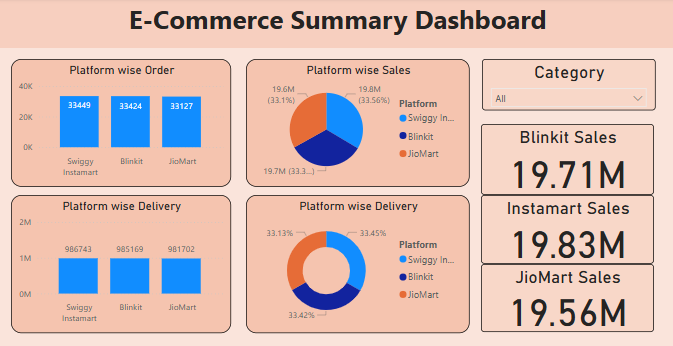

The dashboard page shown, as its layout file describes it:
{"tool":"powerbi","page":{"name":"Page 1","canvas":[1280,720],"ordinal":0},"visuals":[{"type":"columnChart","title":"Platform wise Order","fields":{"Category":["Ecommerce_Delivery_Analytics_New (1).Platform"],"Y":["CountNonNull(Ecommerce_Delivery_Analytics_New (1).Order ID)"]},"box":[16,88.3,317,184],"z":0},{"type":"pieChart","title":"Platform wise Sales","fields":{"Category":["Ecommerce_Delivery_Analytics_New (1).Platform"],"Y":["Sum(Ecommerce_Delivery_Analytics_New (1).Order Value (INR))"]},"box":[354.3,88.3,322.3,184],"z":1000},{"type":"columnChart","title":"Platform wise Delivery","fields":{"Category":["Ecommerce_Delivery_Analytics_New (1).Platform"],"Y":["Sum(Ecommerce_Delivery_Analytics_New (1).Delivery Time (Minutes))"]},"box":[16,284,317,198.9],"z":2000},{"type":"donutChart","title":"Platform wise Delivery","fields":{"Category":["Ecommerce_Delivery_Analytics_New (1).Platform"],"Y":["CountNonNull(Ecommerce_Delivery_Analytics_New (1).Customer ID)"]},"box":[354.3,284,322.3,198.9],"z":3001},{"type":"textbox","box":[0,0,972.3,72.3],"z":3002},{"type":"card","title":"Blinkit Sales","fields":{"Values":["Ecommerce_Delivery_Analytics_New (1).Blinkit"]},"box":[693.6,170.2,250,102.1],"z":3003},{"type":"slicer","title":"Category","fields":{"Values":["Ecommerce_Delivery_Analytics_New (1).Product Category"]},"box":[693.6,88.3,250,74.5],"z":3004},{"type":"card","title":"Instamart Sales","fields":{"Values":["Ecommerce_Delivery_Analytics_New (1).Instamart"]},"box":[693.6,284,250,102.1],"z":3005},{"type":"card","title":"JioMart Sales","fields":{"Values":["Ecommerce_Delivery_Analytics_New (1).JioMart"]},"box":[693.6,395.7,250,102.1],"z":3006}]}

Visuals, with their boxes on the page's 1280x720 design canvas (x1, y1, x2, y2). These are canvas units, not pixel positions in the 673x346 screenshot, which may show the page scaled, cropped or inside an application window:
"Platform wise Order" columnChart: select_region(16, 88, 333, 272)
"Platform wise Sales" pieChart: select_region(354, 88, 677, 272)
"Platform wise Delivery" columnChart: select_region(16, 284, 333, 483)
"Platform wise Delivery" donutChart: select_region(354, 284, 677, 483)
textbox: select_region(0, 0, 972, 72)
"Blinkit Sales" card: select_region(694, 170, 944, 272)
"Category" slicer: select_region(694, 88, 944, 163)
"Instamart Sales" card: select_region(694, 284, 944, 386)
"JioMart Sales" card: select_region(694, 396, 944, 498)
